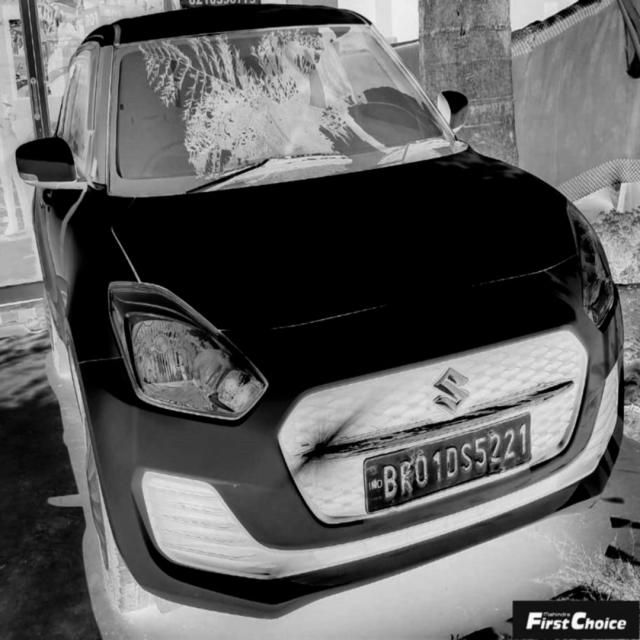0: (413, 453, 429, 489)
1: (429, 446, 444, 487), (520, 421, 526, 456)
2: (490, 432, 502, 466), (504, 429, 517, 458)
5: (474, 436, 488, 470)
B: (382, 462, 400, 502)
D: (446, 444, 458, 479)
IND: (366, 464, 383, 496)
Indian_registered: (364, 413, 532, 513)
R: (400, 459, 413, 497)
S: (460, 442, 473, 475)
